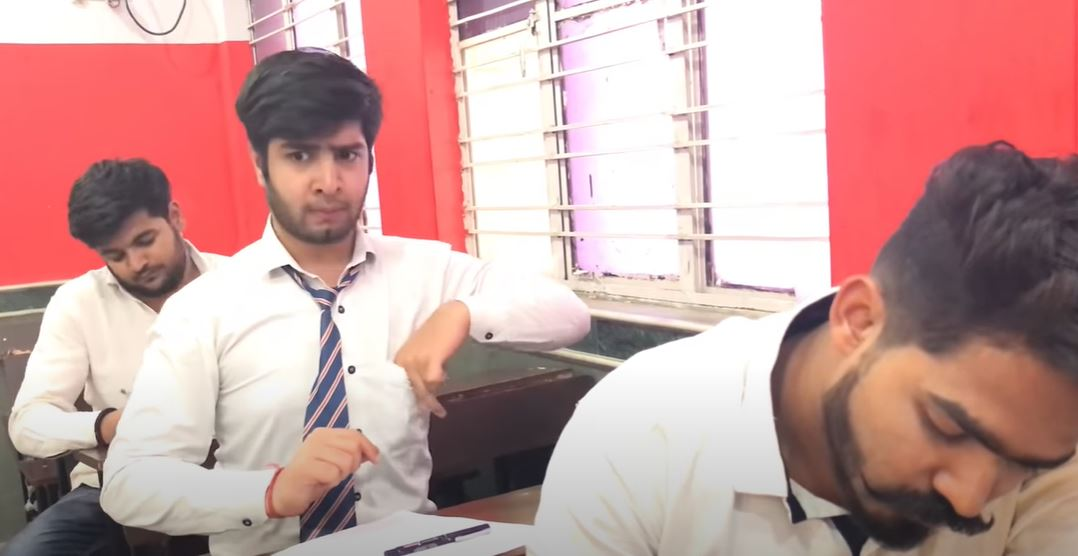student: (588, 225, 1078, 539), (58, 158, 239, 334)
studentcopying: (216, 76, 499, 478)
